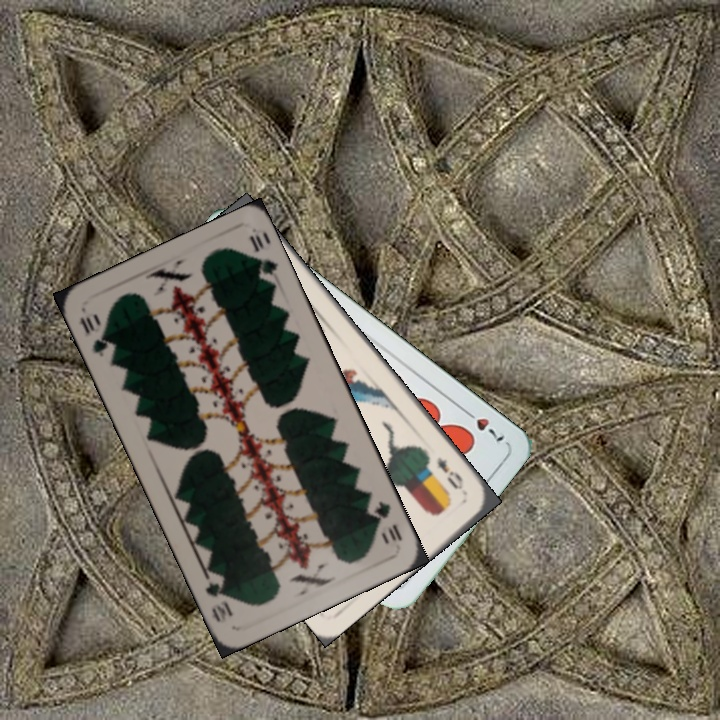EO: (432, 453, 469, 497)
G10: (75, 309, 113, 360), (368, 497, 405, 544)
H7: (458, 404, 508, 444)
